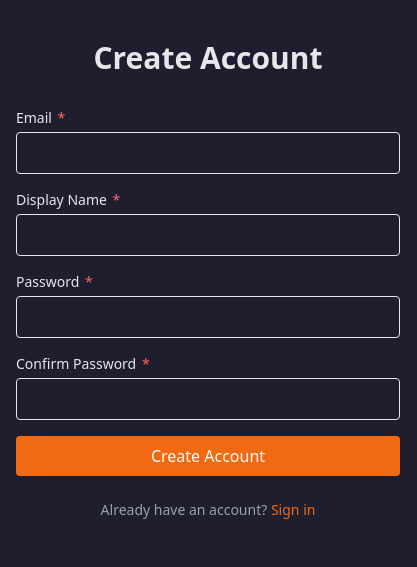
Test case: RegisterPage › client-side validation › should show validation error for mismatched passwords
Type "test@example.com" into the field labelled "Email *" at [208, 153], box x1=16 y1=132 x2=400 y2=174
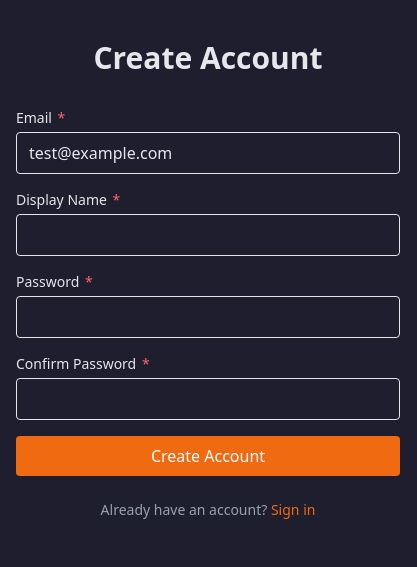
Type "Test" into the field with test id "register-name-input" at [208, 235], box x1=16 y1=214 x2=400 y2=256
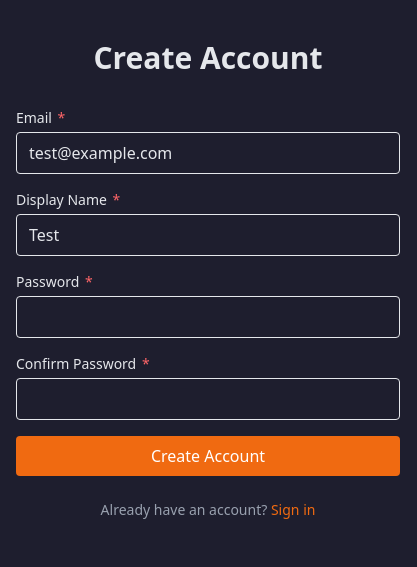
Type "password1" into the password field with test id "register-password-input" at [208, 317], box x1=16 y1=296 x2=400 y2=338
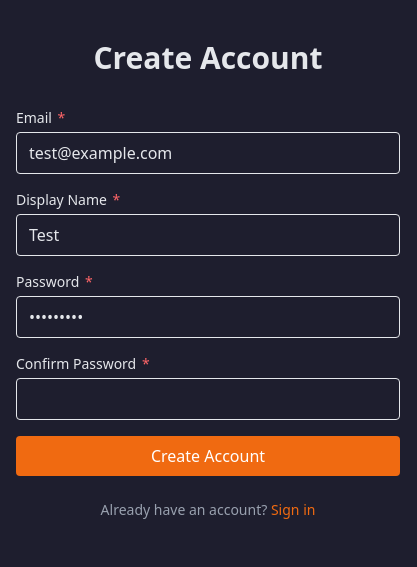
Type "different1" into the password field with test id "register-confirm-password-input" at [208, 399], box x1=16 y1=378 x2=400 y2=420
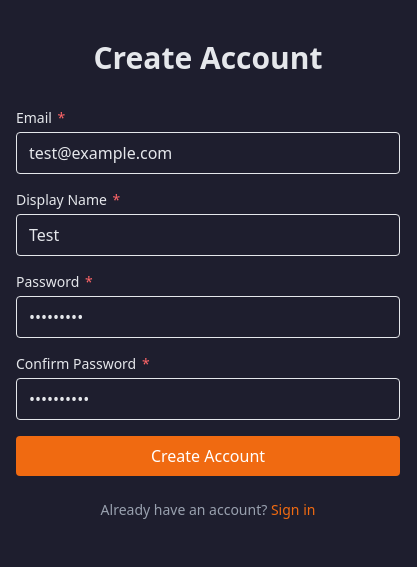
Submit the form, box x1=16 y1=108 x2=400 y2=476
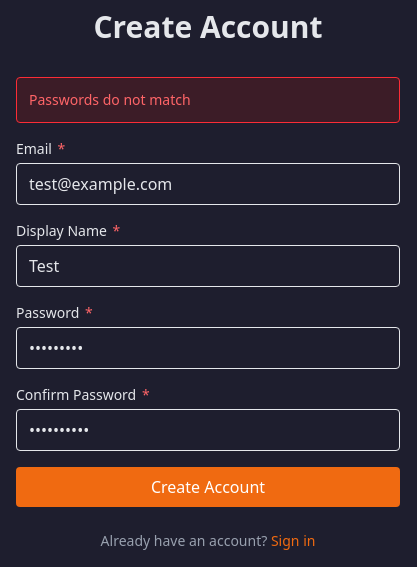
expect the text "match" is shown: met, box x1=29 y1=90 x2=191 y2=109
